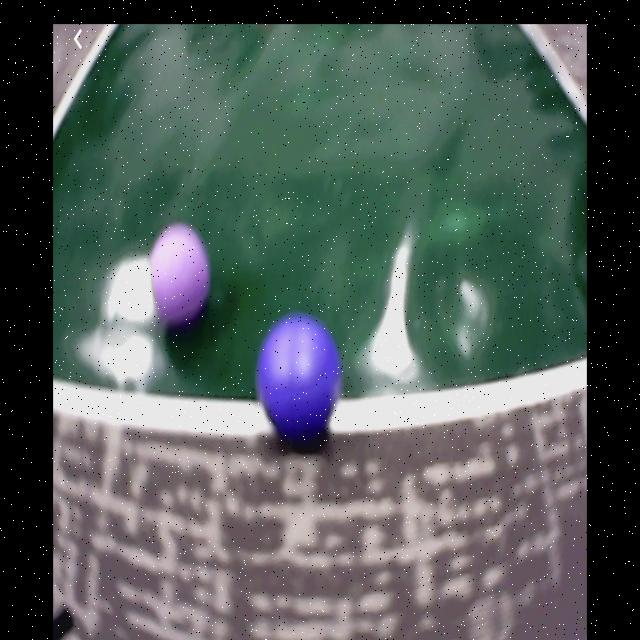ball: (258, 310, 340, 441), (152, 223, 210, 324)
